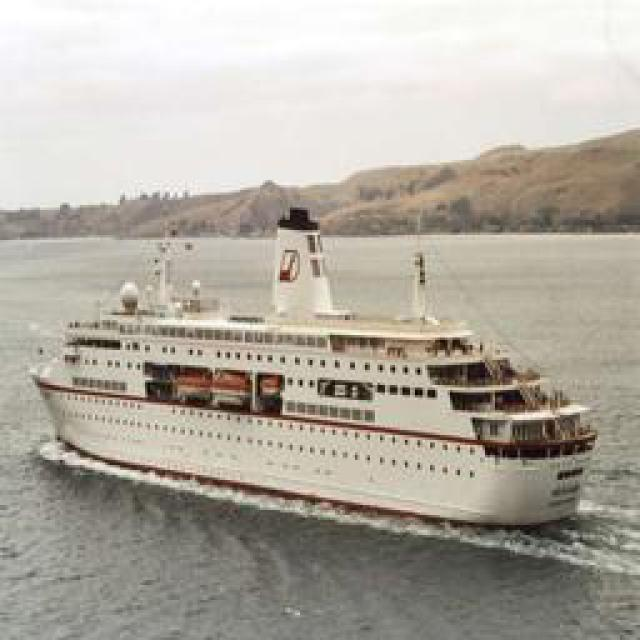Ship: (27, 222, 595, 540)
